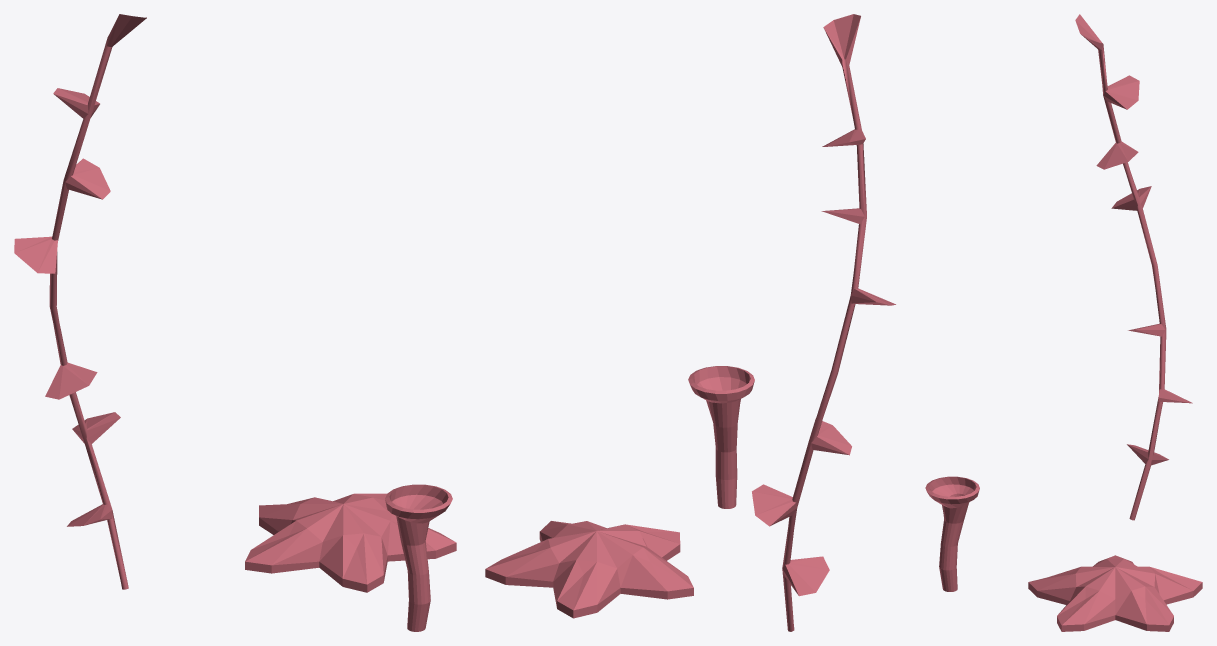
Rendered from Coral3.fbx.
3 views of the same model, side by side, from view 1: azimuth 30°, elevation 25°; view 2: azimuth 150°, elevation 25°; view 3: azimuth 270°, elevation 25° (orthographic). The views are drawn at different scales.
Parts seen in each view (by area): view 1: Starfish, Seaweed, Tube_Coral_5; view 2: Starfish, Seaweed, Tube_Coral_5; view 3: Starfish, Seaweed, Tube_Coral_5.
Part boxes in pixels (x1,y1,x2,y2): Starfish: (245,493,456,592); Seaweed: (14,14,146,589); Tube_Coral_5: (385,484,452,631); Starfish: (485,521,693,618); Seaweed: (752,14,895,631); Tube_Coral_5: (688,366,754,508); Starfish: (1028,555,1202,631); Seaweed: (1075,14,1192,520); Tube_Coral_5: (925,476,979,591).
Bounding box in the file's own units: 113 × 167 × 85.73.
